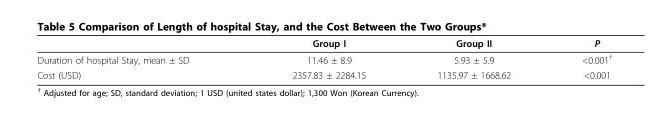table: (36, 37, 611, 80)
table column: (36, 37, 240, 80), (240, 37, 400, 80), (400, 37, 545, 80), (545, 37, 611, 80)
table column header: (36, 37, 611, 50)
table row: (36, 50, 611, 67), (36, 37, 611, 50), (36, 67, 611, 80)
